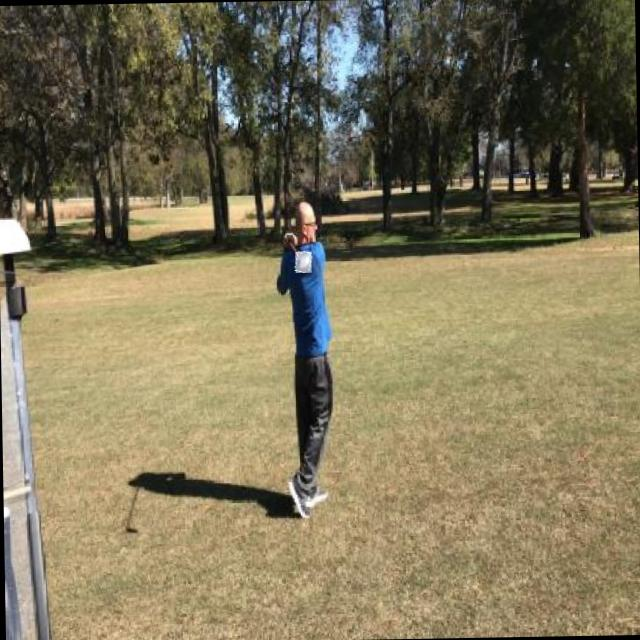club head: (295, 252, 311, 272)
